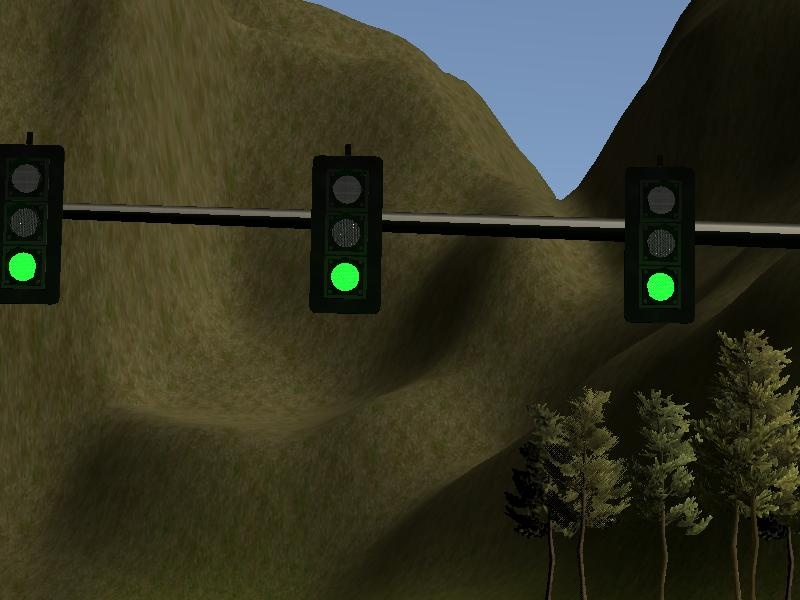traffic_light_green: (1, 129, 729, 328)
